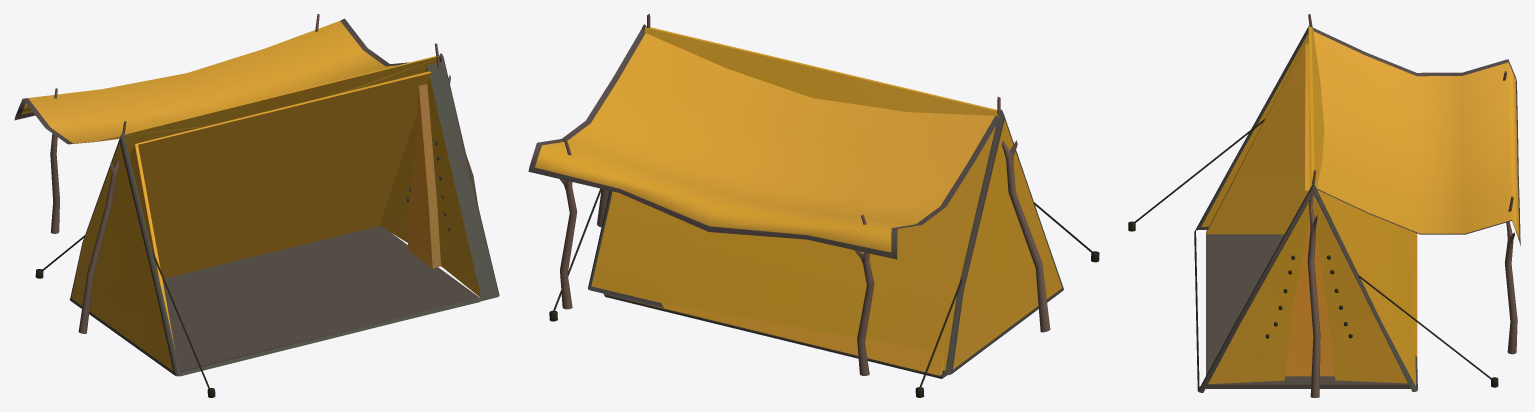
Rendered from TentInterior.fbx.
The picture shows the model from 3 angles, left to right: view 1: azimuth 30°, elevation 25°; view 2: azimuth 150°, elevation 25°; view 3: azimuth 270°, elevation 25°; orthographic projection. The views are drawn at different scales.
Visible parts, largest first — view 1: polySurface153; view 2: polySurface153; view 3: polySurface153.
Boxes of the visible parts, bbox=[...] form: polySurface153: bbox=[14, 14, 499, 397]; polySurface153: bbox=[528, 14, 1099, 397]; polySurface153: bbox=[1128, 14, 1520, 397].
Size of the model in its own units: 834 by 428 by 683.
